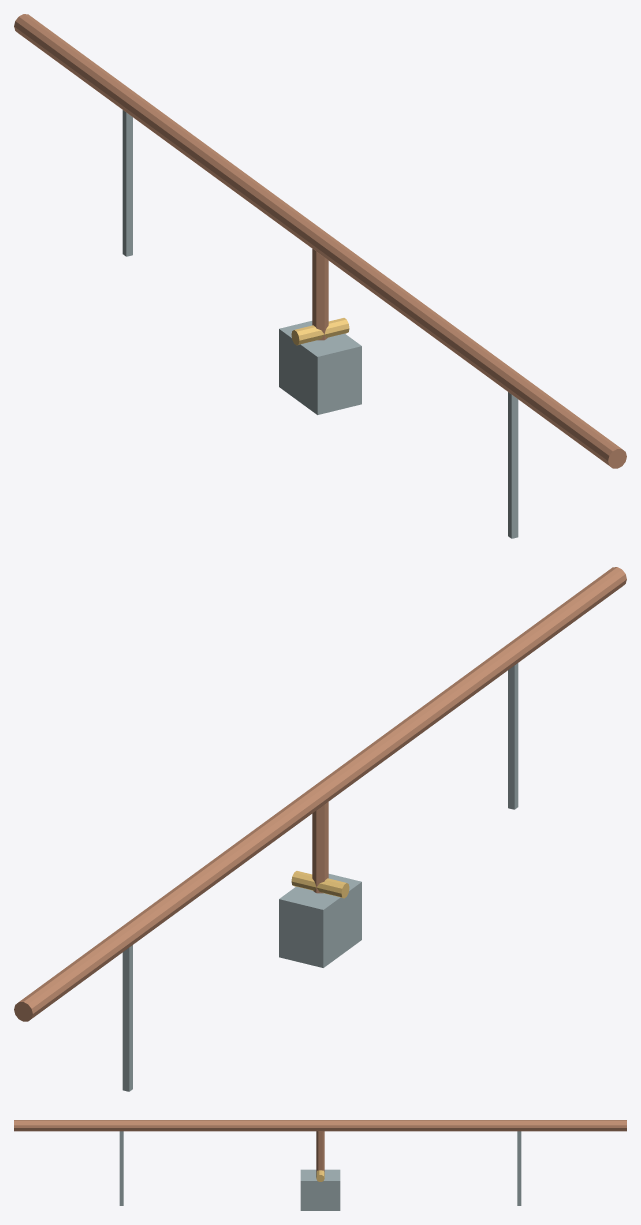
The picture shows the model from 3 angles, top to bottom: view 1: azimuth 30°, elevation 25°; view 2: azimuth 150°, elevation 25°; view 3: azimuth 270°, elevation 25°; orthographic projection. The views are drawn at different scales.
Size of the model in its own units: 1.8 by 5.64 by 37.
